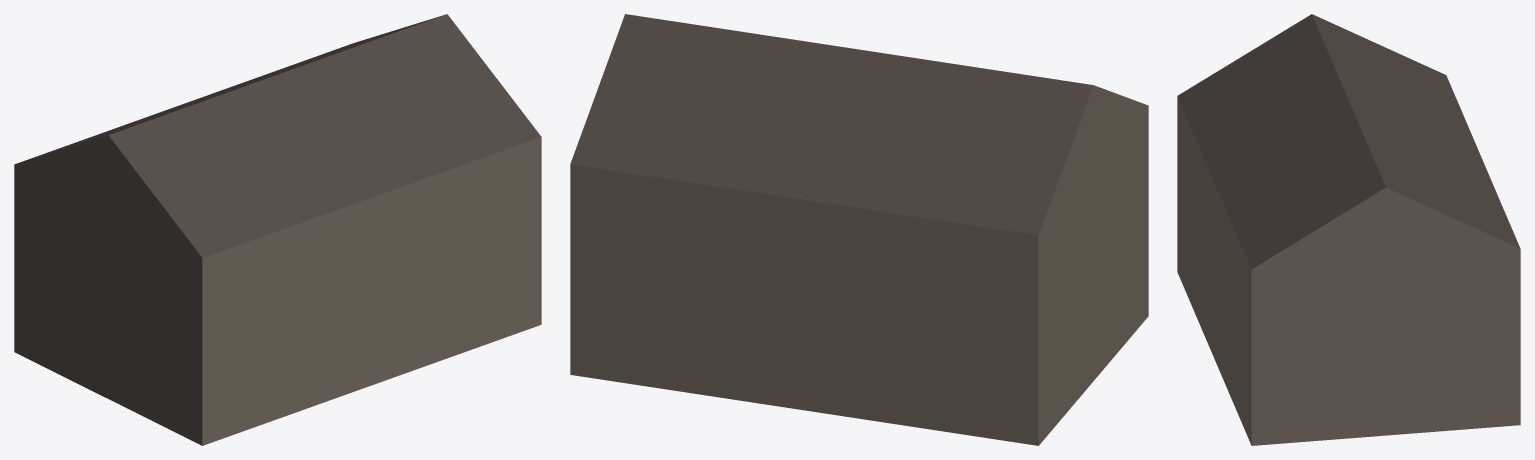
3 views of the same model, side by side, from view 1: azimuth 30°, elevation 25°; view 2: azimuth 150°, elevation 25°; view 3: azimuth 270°, elevation 25° (orthographic). The views are drawn at different scales.
Visible parts, largest first — view 1: HP-w859457396; view 2: HP-w859457396; view 3: HP-w859457396.
Part boxes in pixels (bbox=[...]): HP-w859457396: bbox=[14, 14, 541, 445]; HP-w859457396: bbox=[570, 14, 1148, 445]; HP-w859457396: bbox=[1177, 14, 1520, 445].
Size of the model in its own units: 14.16 by 8.43 by 10.57.
